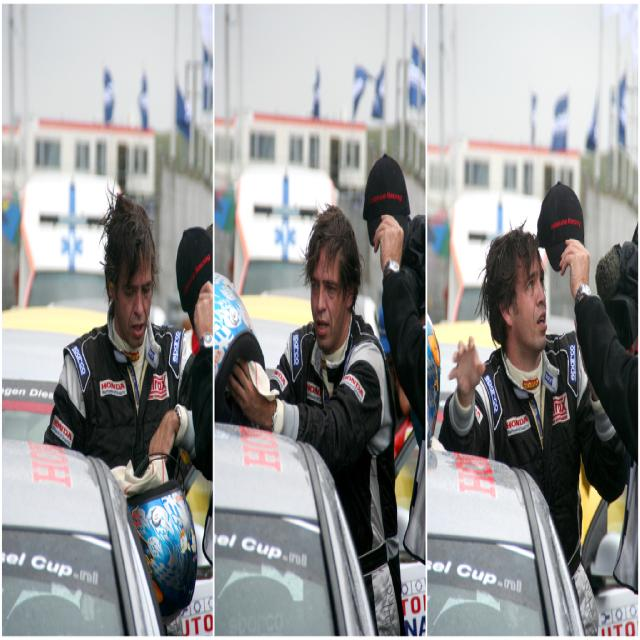car: (211, 422, 376, 638), (423, 443, 591, 638), (4, 443, 166, 638), (0, 300, 108, 439), (432, 315, 500, 440), (238, 288, 313, 373)
